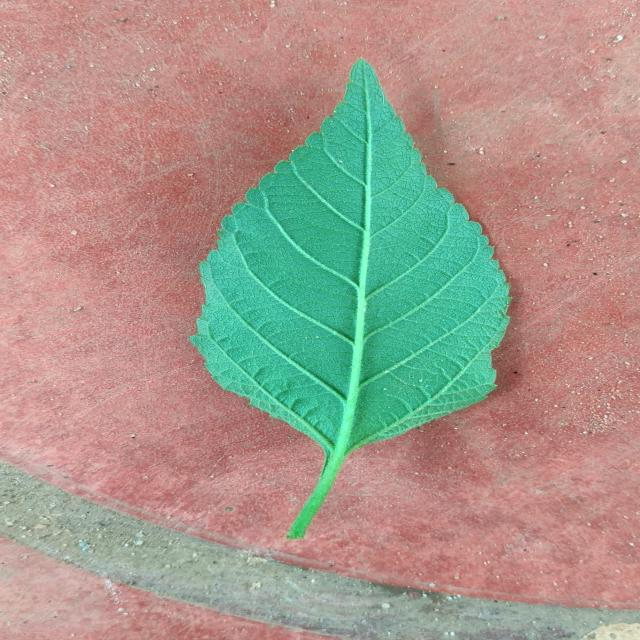Lantana: (191, 60, 509, 539)
